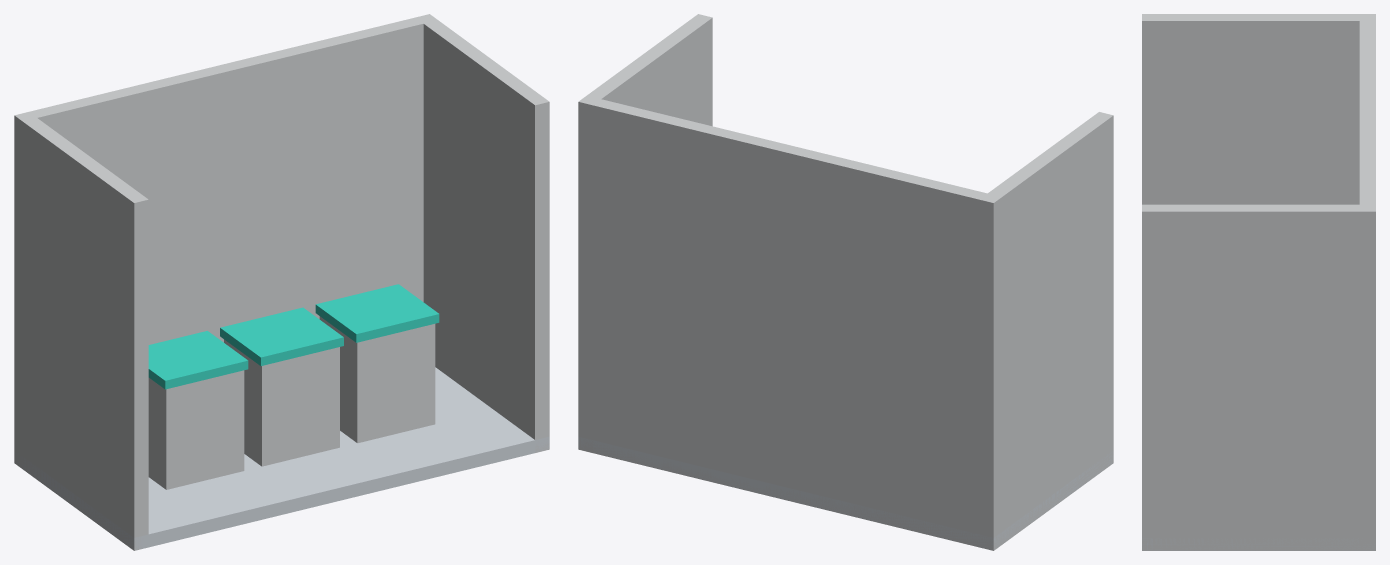
3 views of the same model, side by side, from view 1: azimuth 30°, elevation 25°; view 2: azimuth 150°, elevation 25°; view 3: azimuth 270°, elevation 25° (orthographic). The views are drawn at different scales.
Visible parts, largest first — view 1: Exhibition Booth Concept; view 2: Exhibition Booth Concept; view 3: Exhibition Booth Concept.
Part boxes in pixels (x1=…): Exhibition Booth Concept: x1=14, y1=14, x2=549, y2=550; Exhibition Booth Concept: x1=578, y1=14, x2=1113, y2=550; Exhibition Booth Concept: x1=1142, y1=14, x2=1375, y2=550.
Size of the model in its own units: 4 by 3.2 by 2.
